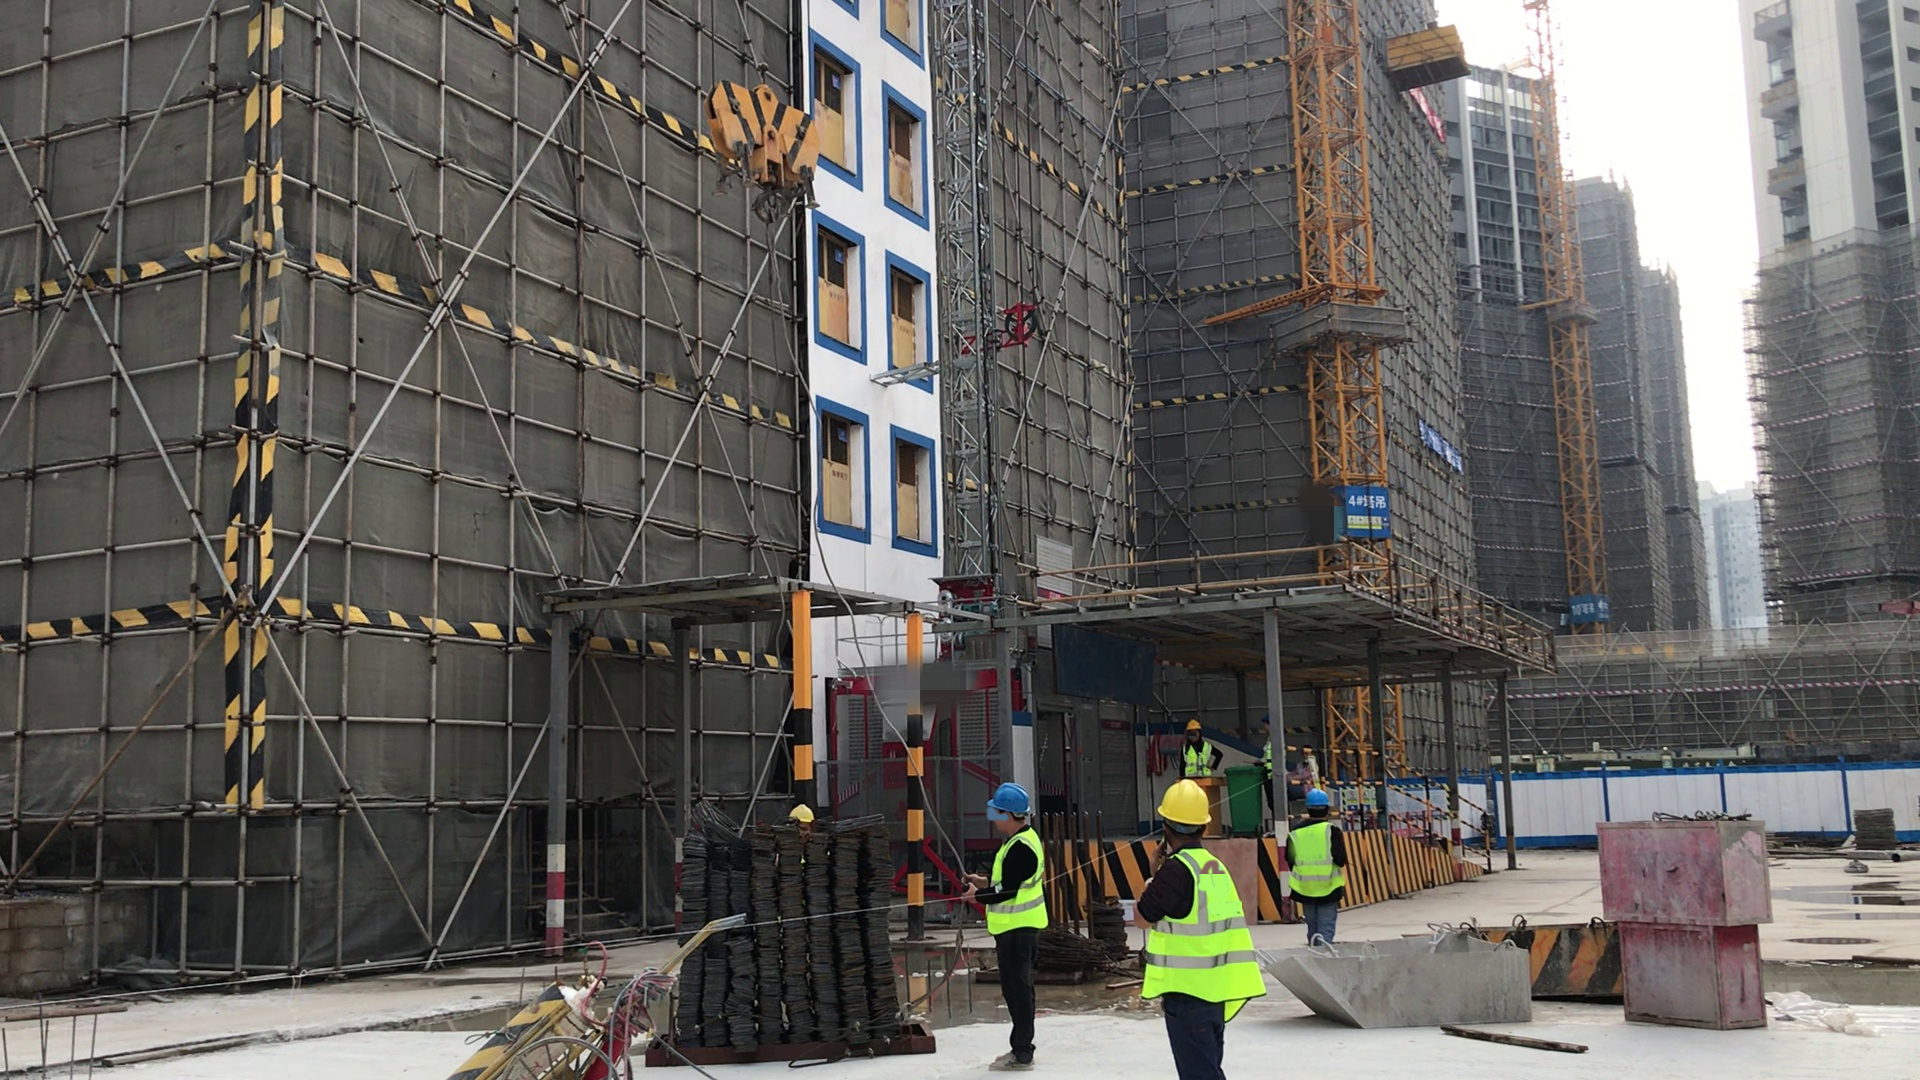fence: (1311, 731, 1537, 874)
handcart: (463, 909, 734, 1080)
helmet: (1156, 780, 1219, 834), (984, 783, 1027, 820), (781, 799, 823, 820), (1304, 784, 1333, 809), (1255, 710, 1270, 728), (1188, 718, 1203, 733)
hook: (687, 59, 850, 222)
hopper: (1282, 925, 1543, 1022), (1473, 909, 1634, 1022)
person: (1145, 778, 1264, 1080), (981, 772, 1049, 1080), (1286, 788, 1360, 948), (1179, 716, 1230, 778), (1259, 713, 1292, 778), (1296, 744, 1329, 793)
slogan: (1413, 399, 1478, 488)
vest: (1146, 839, 1275, 1018), (986, 832, 1048, 934), (1289, 817, 1346, 903), (1186, 742, 1220, 782), (1260, 738, 1275, 780)
